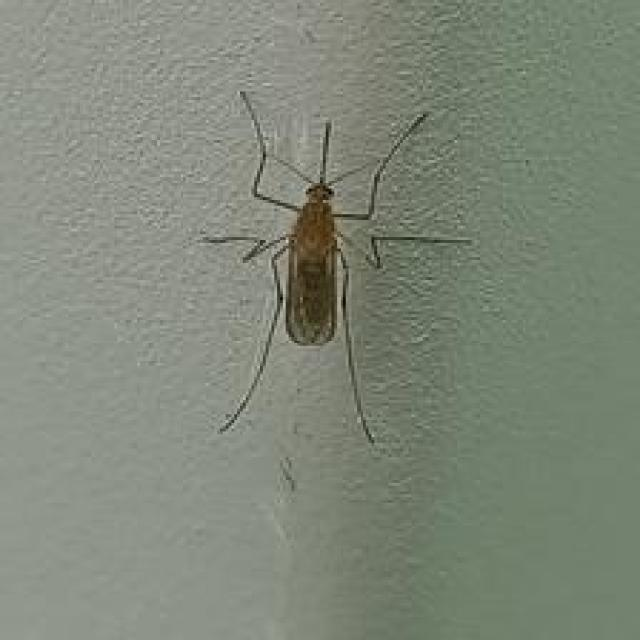Culex: (198, 89, 473, 448)
